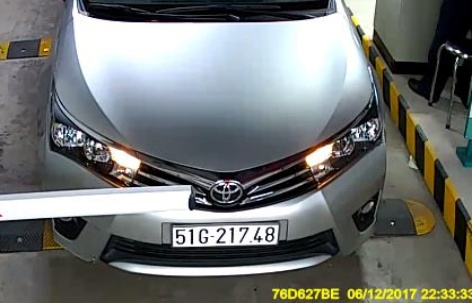plate: (166, 221, 287, 245)
